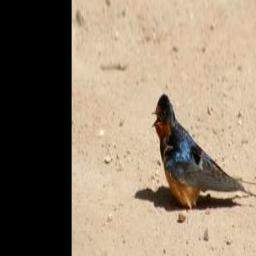Swallow: (152, 92, 256, 206)
